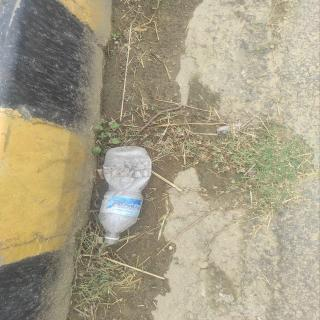Plastic-bottle: (96, 143, 155, 247)
